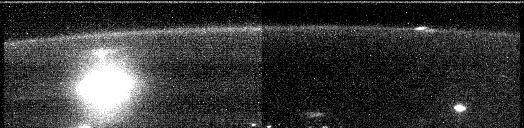positive: (87, 48, 118, 66)
